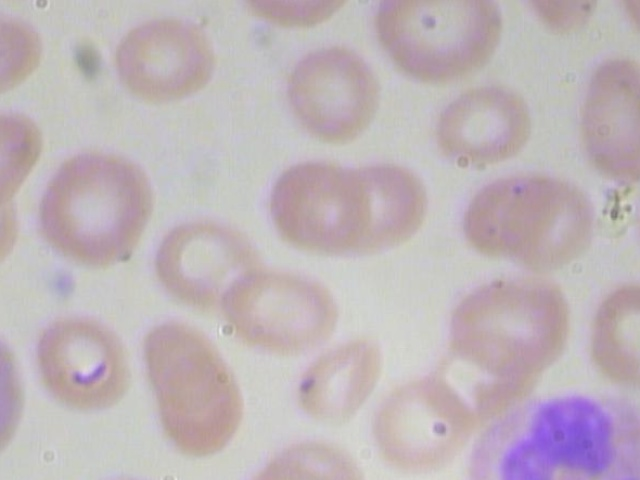RBC: (33, 137, 160, 275), (145, 207, 272, 316), (19, 301, 146, 409), (217, 255, 343, 363), (359, 0, 517, 85), (447, 271, 575, 374), (358, 372, 486, 475), (271, 42, 387, 147), (258, 149, 374, 254), (279, 321, 395, 426), (342, 153, 444, 258), (503, 176, 610, 275), (455, 166, 562, 264), (430, 83, 545, 173), (111, 11, 215, 104), (133, 315, 237, 407), (147, 369, 251, 461), (577, 52, 640, 187)
WBC: (450, 389, 640, 480)
